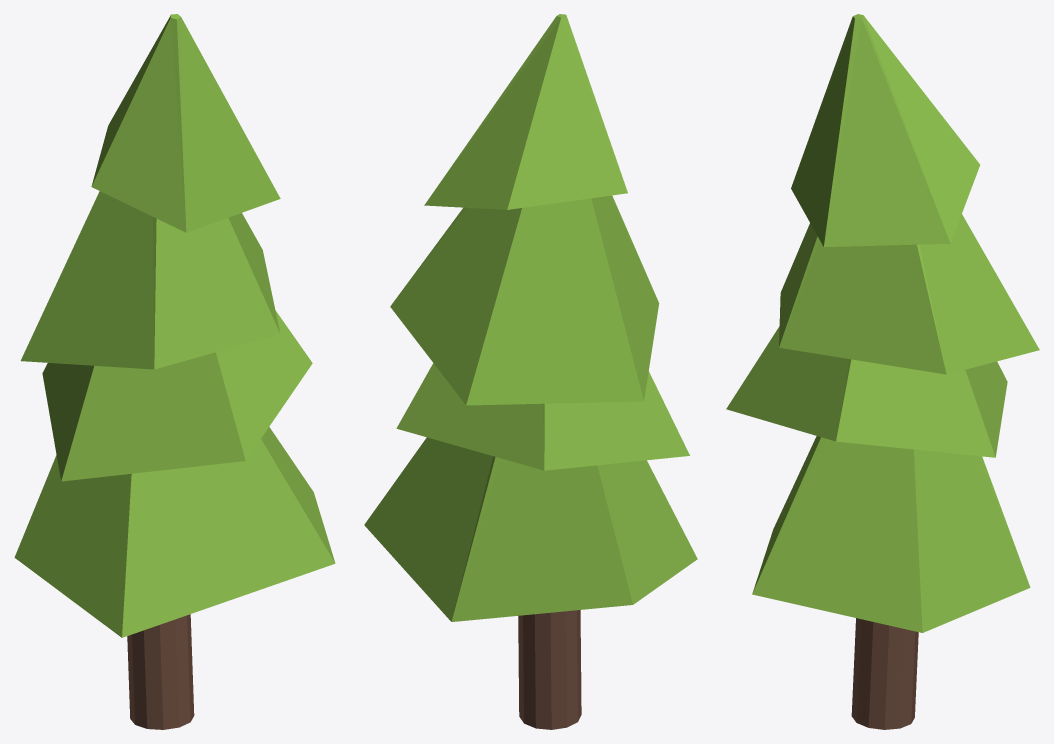
The model's file is tree_18_mesh1610579876.glb.
3 views of the same model, side by side, from view 1: azimuth 30°, elevation 25°; view 2: azimuth 150°, elevation 25°; view 3: azimuth 270°, elevation 25° (orthographic). The views are drawn at different scales.
Parts seen in each view (by area): view 1: part_1_mesh1610579876, part_2_mesh1610579876_1; view 2: part_1_mesh1610579876, part_2_mesh1610579876_1; view 3: part_1_mesh1610579876, part_2_mesh1610579876_1.
Boxes of the visible parts, left/top/right/bottom form: part_1_mesh1610579876: left=14, top=14, right=335, bottom=637; part_2_mesh1610579876_1: left=127, top=614, right=194, bottom=729; part_1_mesh1610579876: left=364, top=14, right=697, bottom=621; part_2_mesh1610579876_1: left=518, top=610, right=581, bottom=729; part_1_mesh1610579876: left=726, top=14, right=1039, bottom=632; part_2_mesh1610579876_1: left=851, top=618, right=918, bottom=729.
Bounding box in the file's own units: 0.1543 × 0.357 × 0.1445.
